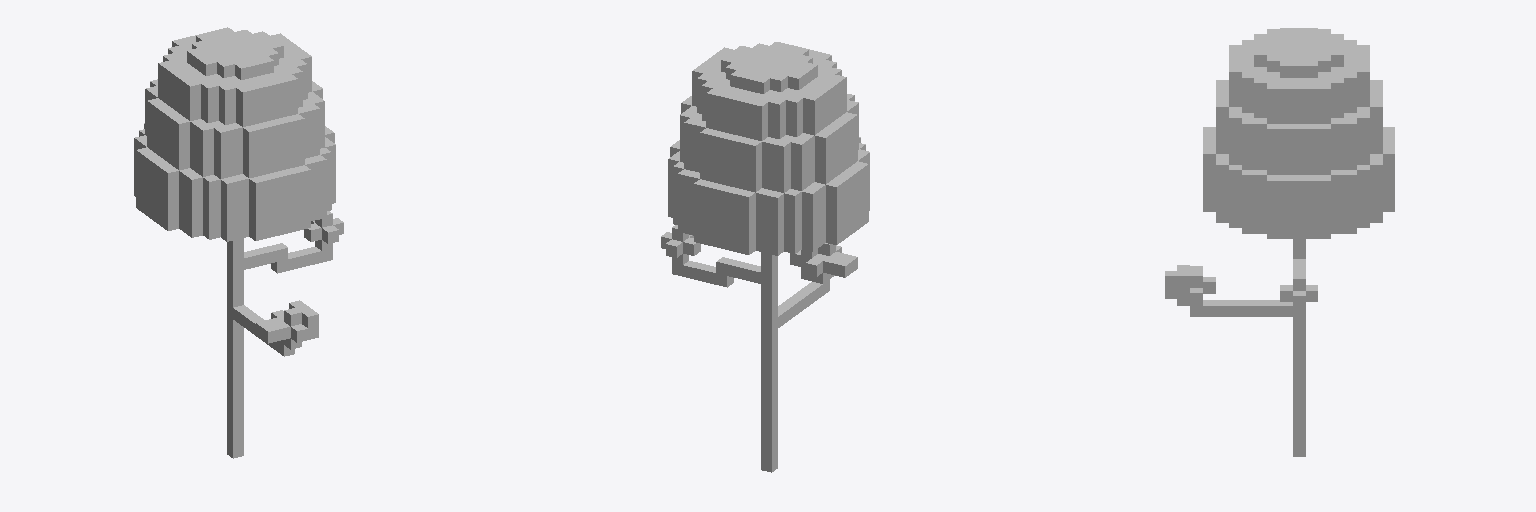
The model's file is tree.obj.
3 views of the same model, side by side, from view 1: azimuth 30°, elevation 25°; view 2: azimuth 150°, elevation 25°; view 3: azimuth 270°, elevation 25° (orthographic).
Parts seen in each view (by area): view 1: object 1; view 2: object 1; view 3: object 1.
Boxes of the visible parts, x1,y1,x2,y2 form: object 1: [134, 27, 343, 458]; object 1: [661, 42, 869, 472]; object 1: [1165, 28, 1394, 456].
Bounding box in the file's own units: 1.7 × 3.5 × 1.8.